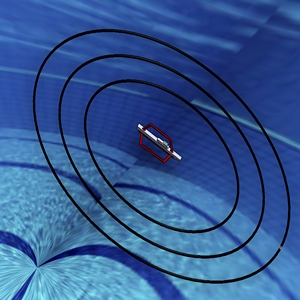circle: (26, 22, 295, 288)
submarine: (129, 111, 183, 176)
